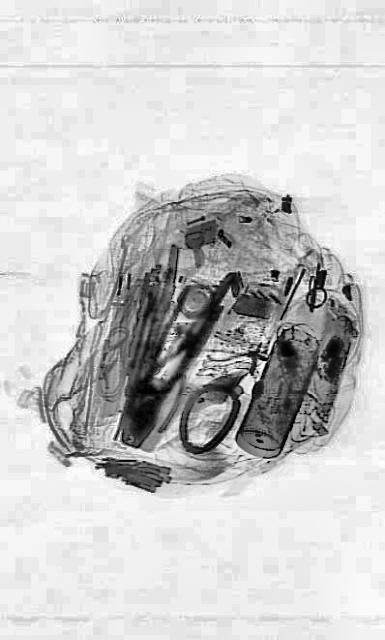Pliers: (100, 218, 237, 472), (132, 305, 208, 437)
